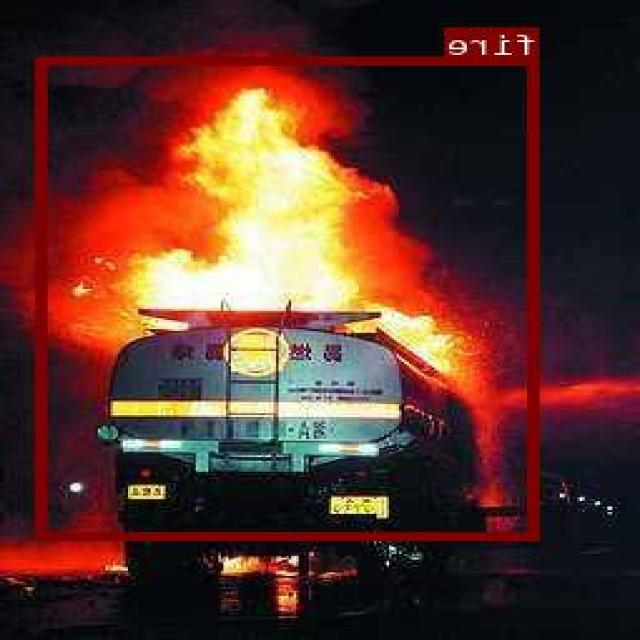fire: (38, 55, 540, 539)
